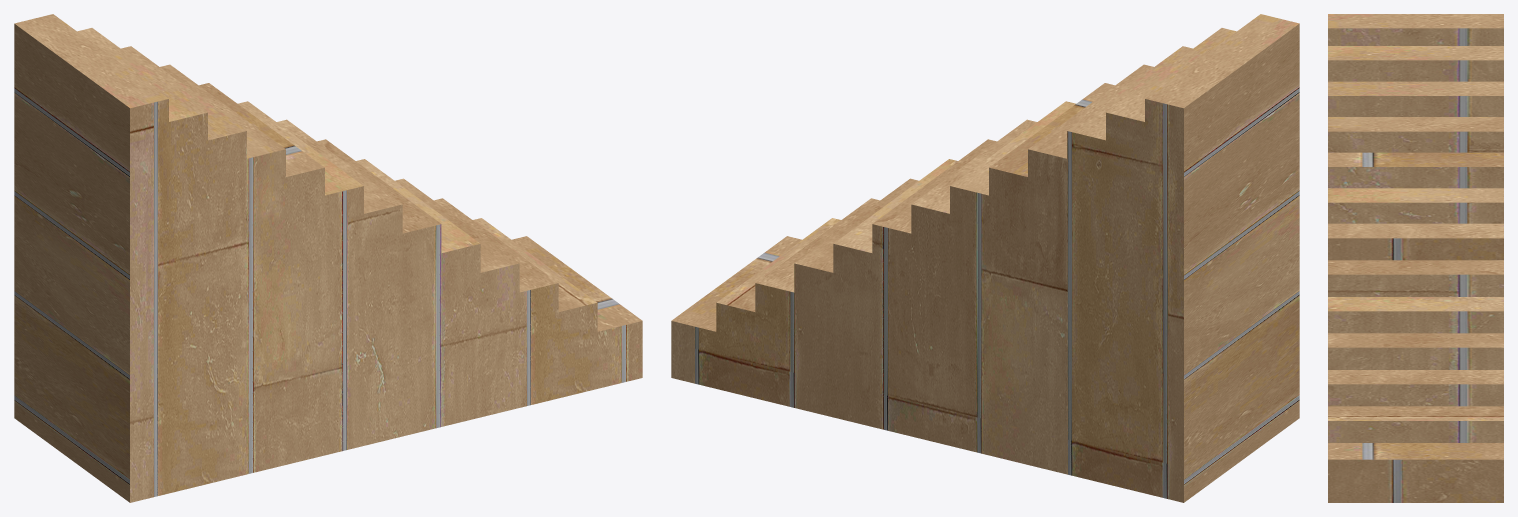
Rendered from stairs.fbx.
The picture shows the model from 3 angles, left to right: view 1: azimuth 30°, elevation 25°; view 2: azimuth 150°, elevation 25°; view 3: azimuth 270°, elevation 25°; orthographic projection. The views are drawn at different scales.
Parts seen in each view (by area): view 1: Cube.021; view 2: Cube.021; view 3: Cube.021.
Part boxes in pixels (x1=…): Cube.021: x1=14, y1=14, x2=642, y2=502; Cube.021: x1=671, y1=14, x2=1299, y2=502; Cube.021: x1=1328, y1=14, x2=1503, y2=502.
Size of the model in its own units: 1.05 by 0.4123 by 0.7746.
